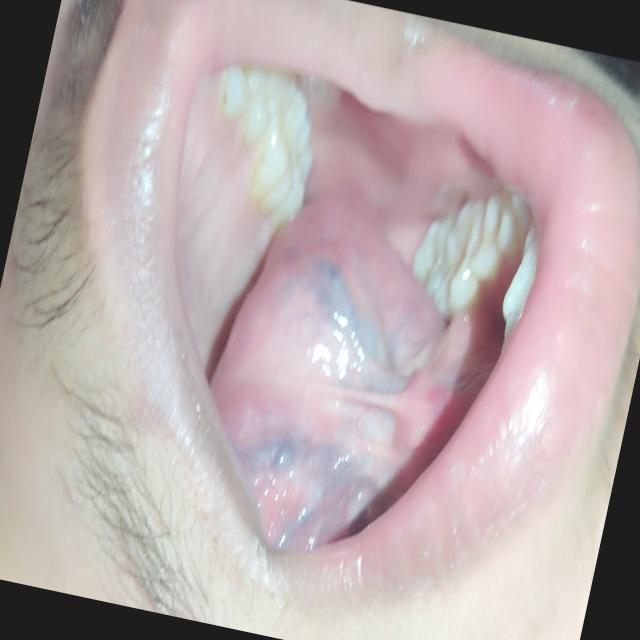No Cancer: (265, 212, 428, 445)
